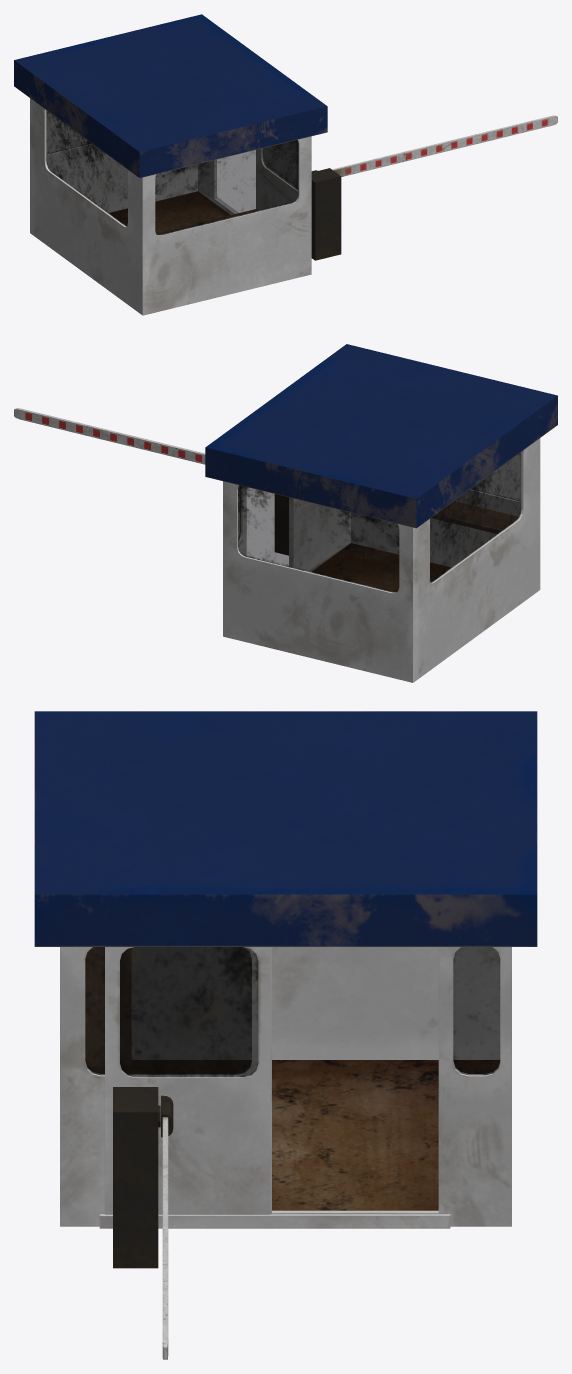
Rendered from small_guard_booth.glb.
The picture shows the model from 3 angles, top to bottom: view 1: azimuth 30°, elevation 25°; view 2: azimuth 150°, elevation 25°; view 3: azimuth 270°, elevation 25°; orthographic projection. The views are drawn at different scales.
Visible parts, largest first — view 1: BoothMain, Cube; view 2: BoothMain, Cube; view 3: BoothMain, Cube.
Part boxes in pixels (x1,y1,x2,y2): BoothMain: [14, 14, 327, 315]; Cube: [311, 115, 557, 260]; BoothMain: [205, 344, 557, 682]; Cube: [14, 408, 288, 555]; BoothMain: [34, 711, 537, 1228]; Cube: [113, 1087, 173, 1359].
Bounding box in the file's own units: 6.91 × 2.5 × 3.34.
2 materials, 2 textured.
